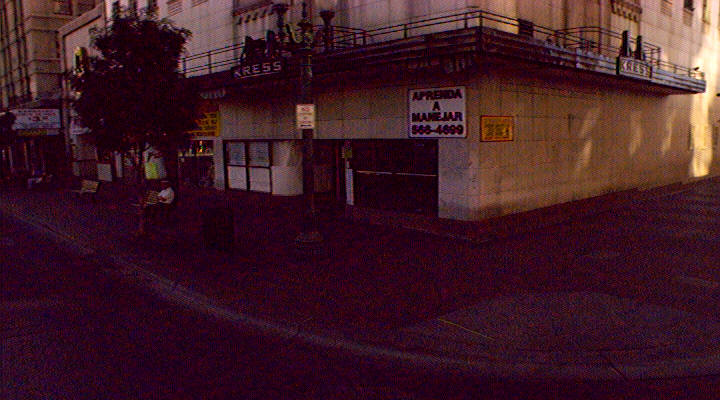Ramp: (369, 287, 720, 385)
